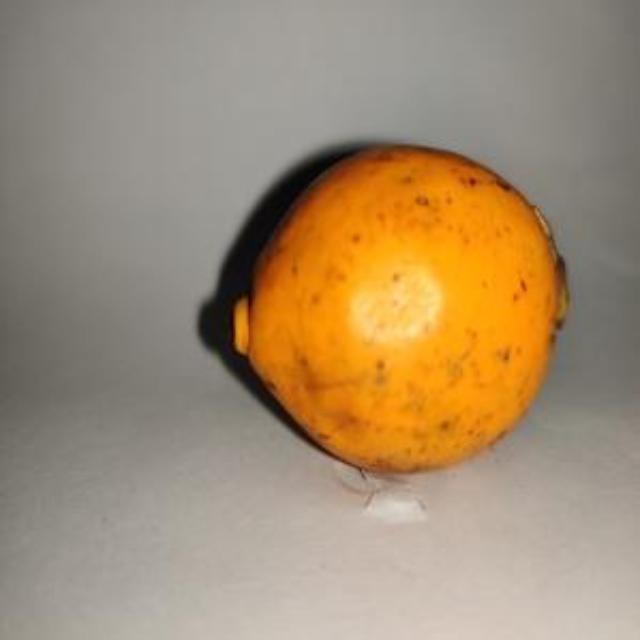good: (233, 146, 569, 475)
